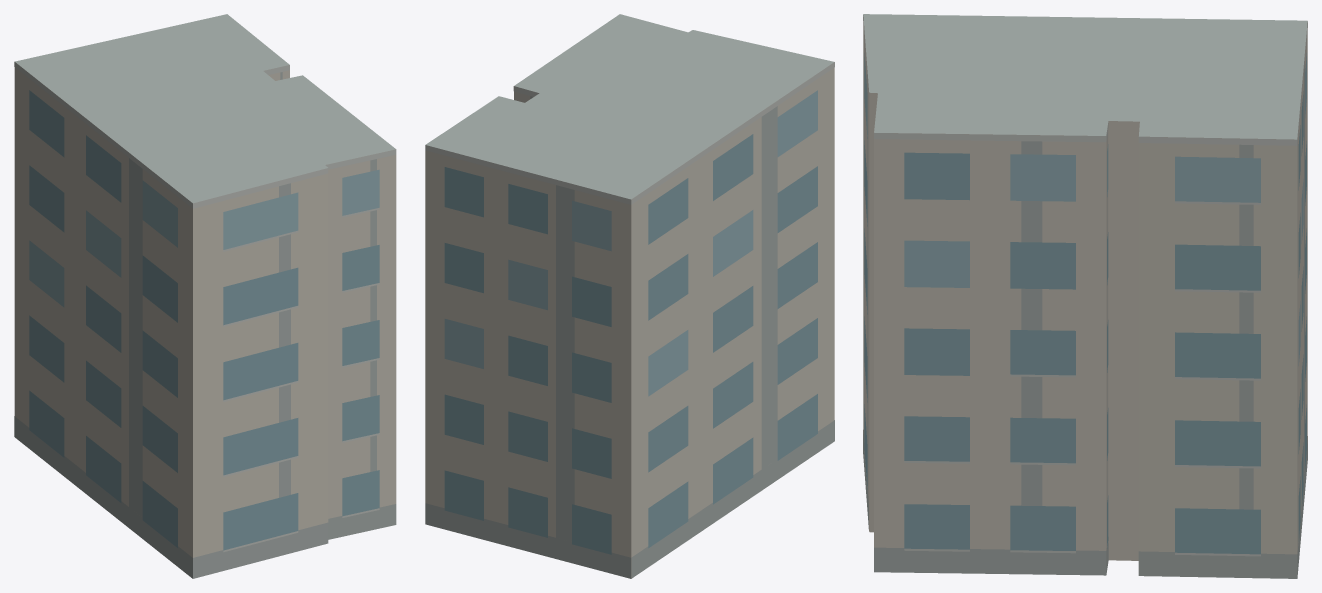
File: survey-upis-32880410.glb
3 views of the same model, side by side, from view 1: azimuth 30°, elevation 25°; view 2: azimuth 150°, elevation 25°; view 3: azimuth 270°, elevation 25° (orthographic). The views are drawn at different scales.
Parts seen in each view (by area): view 1: survey-upis-32880410.tmp; view 2: survey-upis-32880410.tmp; view 3: survey-upis-32880410.tmp.
Boxes of the visible parts, x1=… form: survey-upis-32880410.tmp: x1=14, y1=14, x2=396, y2=578; survey-upis-32880410.tmp: x1=425, y1=14, x2=834, y2=578; survey-upis-32880410.tmp: x1=863, y1=14, x2=1307, y2=578.
Bounding box in the file's own units: 10.36 × 16.9 × 15.51.
